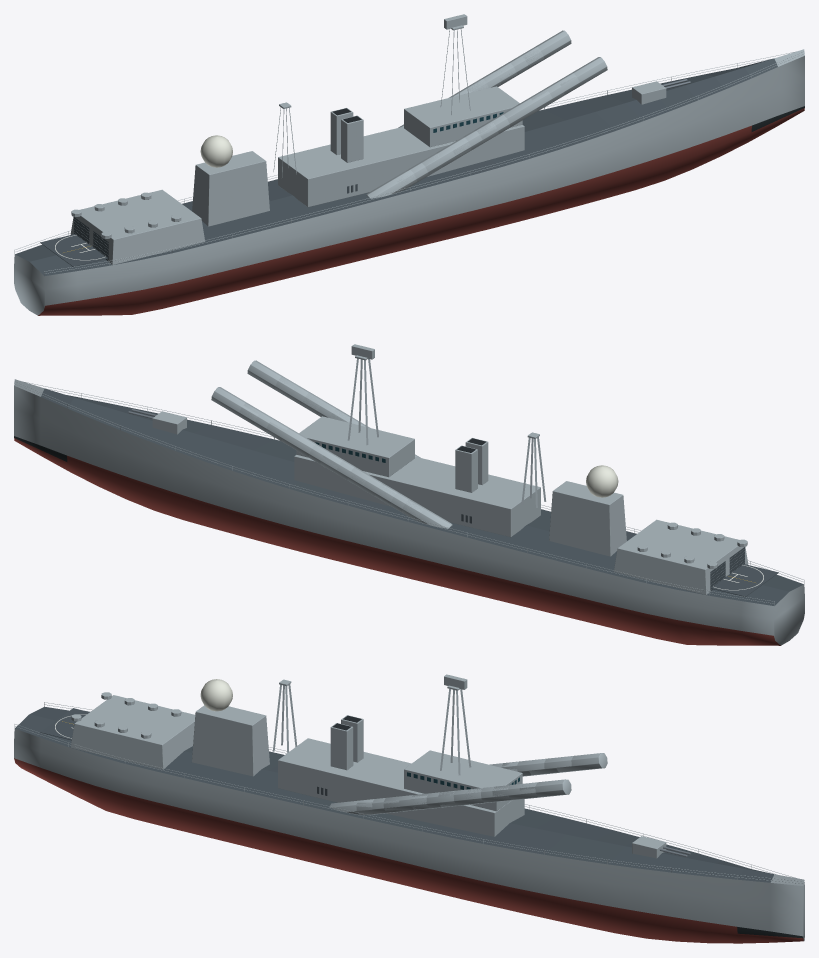
File: cw90_slava.glb
3 views of the same model, one above another, from view 1: azimuth 30°, elevation 25°; view 2: azimuth 150°, elevation 25°; view 3: azimuth 330°, elevation 25° (orthographic).
Parts seen in each view (by area): view 1: cw90_slava; view 2: cw90_slava; view 3: cw90_slava.
Boxes of the visible parts, left/top/right/bottom form: cw90_slava: left=14, top=14, right=804, bottom=315; cw90_slava: left=14, top=344, right=804, bottom=645; cw90_slava: left=14, top=674, right=804, bottom=943.
Size of the model in its own units: 10 by 2.58 by 1.12.
